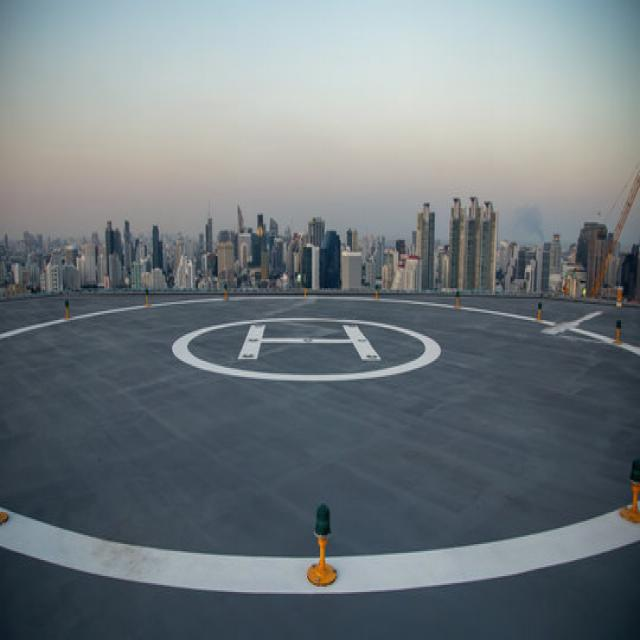helipad: (166, 309, 443, 386)
